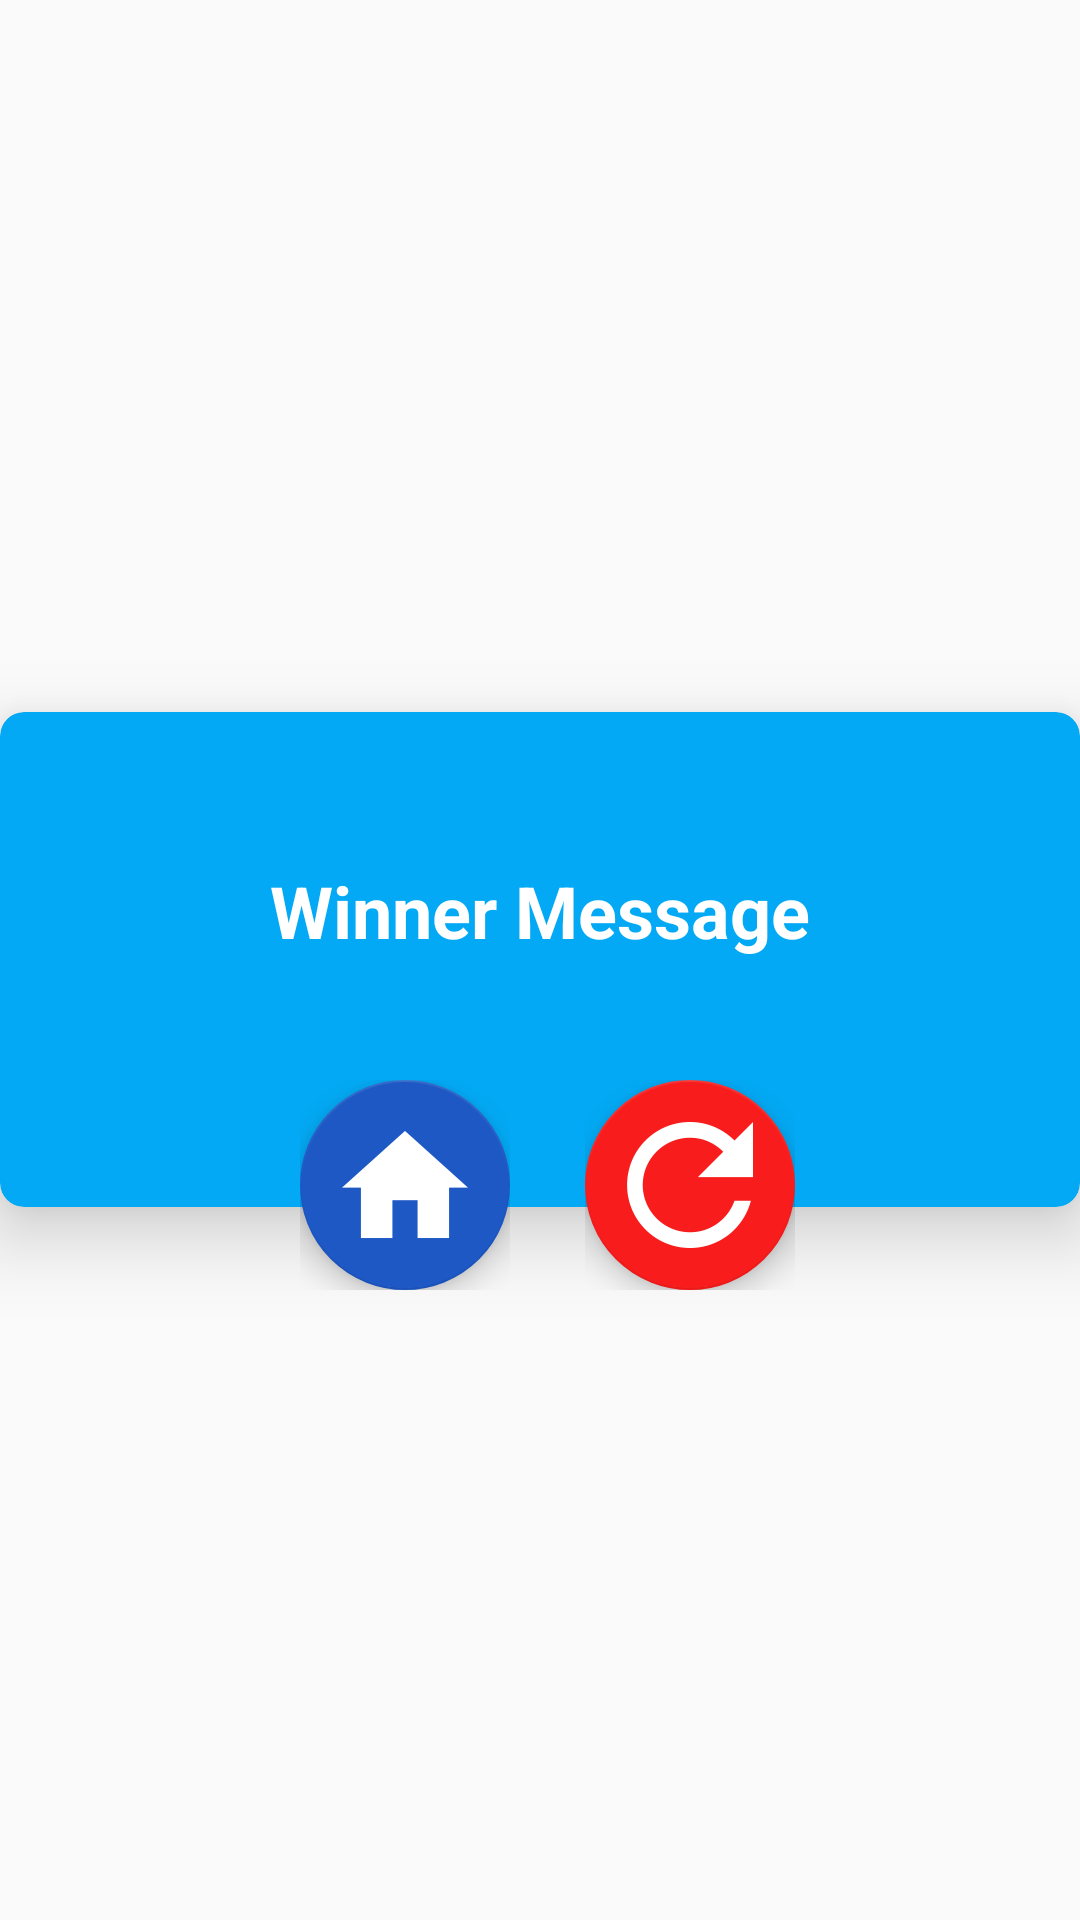

Screen size 1080*1920. Icon name, then its box in pixels as [x1=x1, y1=y1, x2=x2, y2=y2]:
home: [x1=342, y1=1131, x2=468, y2=1238]
play again: [x1=627, y1=1122, x2=753, y2=1248]
